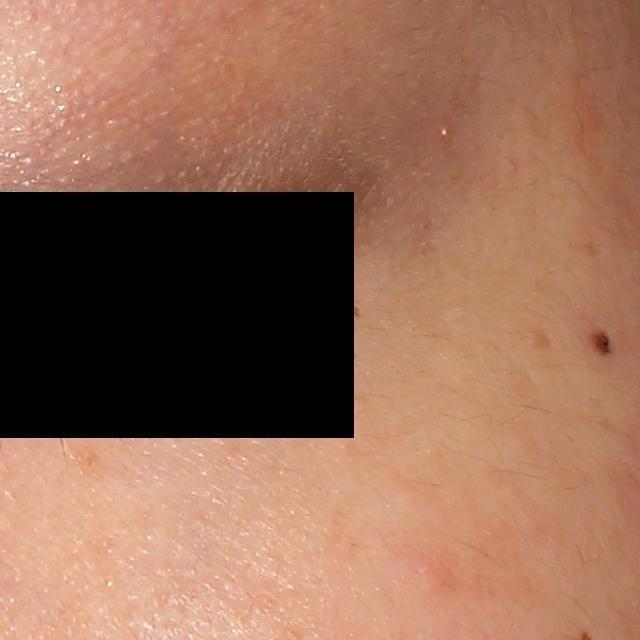nevus: (590, 327, 615, 357)
